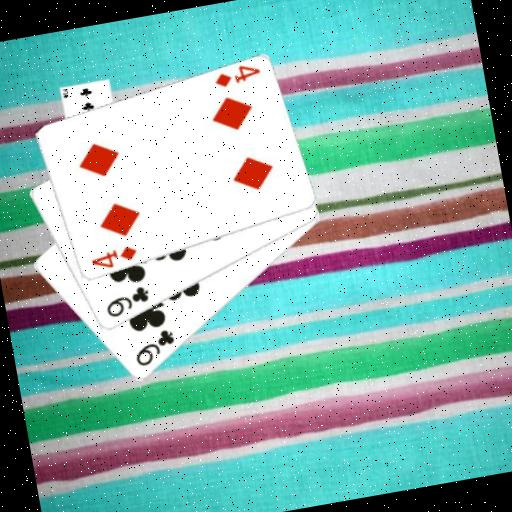4D: (86, 242, 140, 273), (209, 60, 263, 91)
9C: (128, 325, 180, 369), (100, 281, 154, 320)
